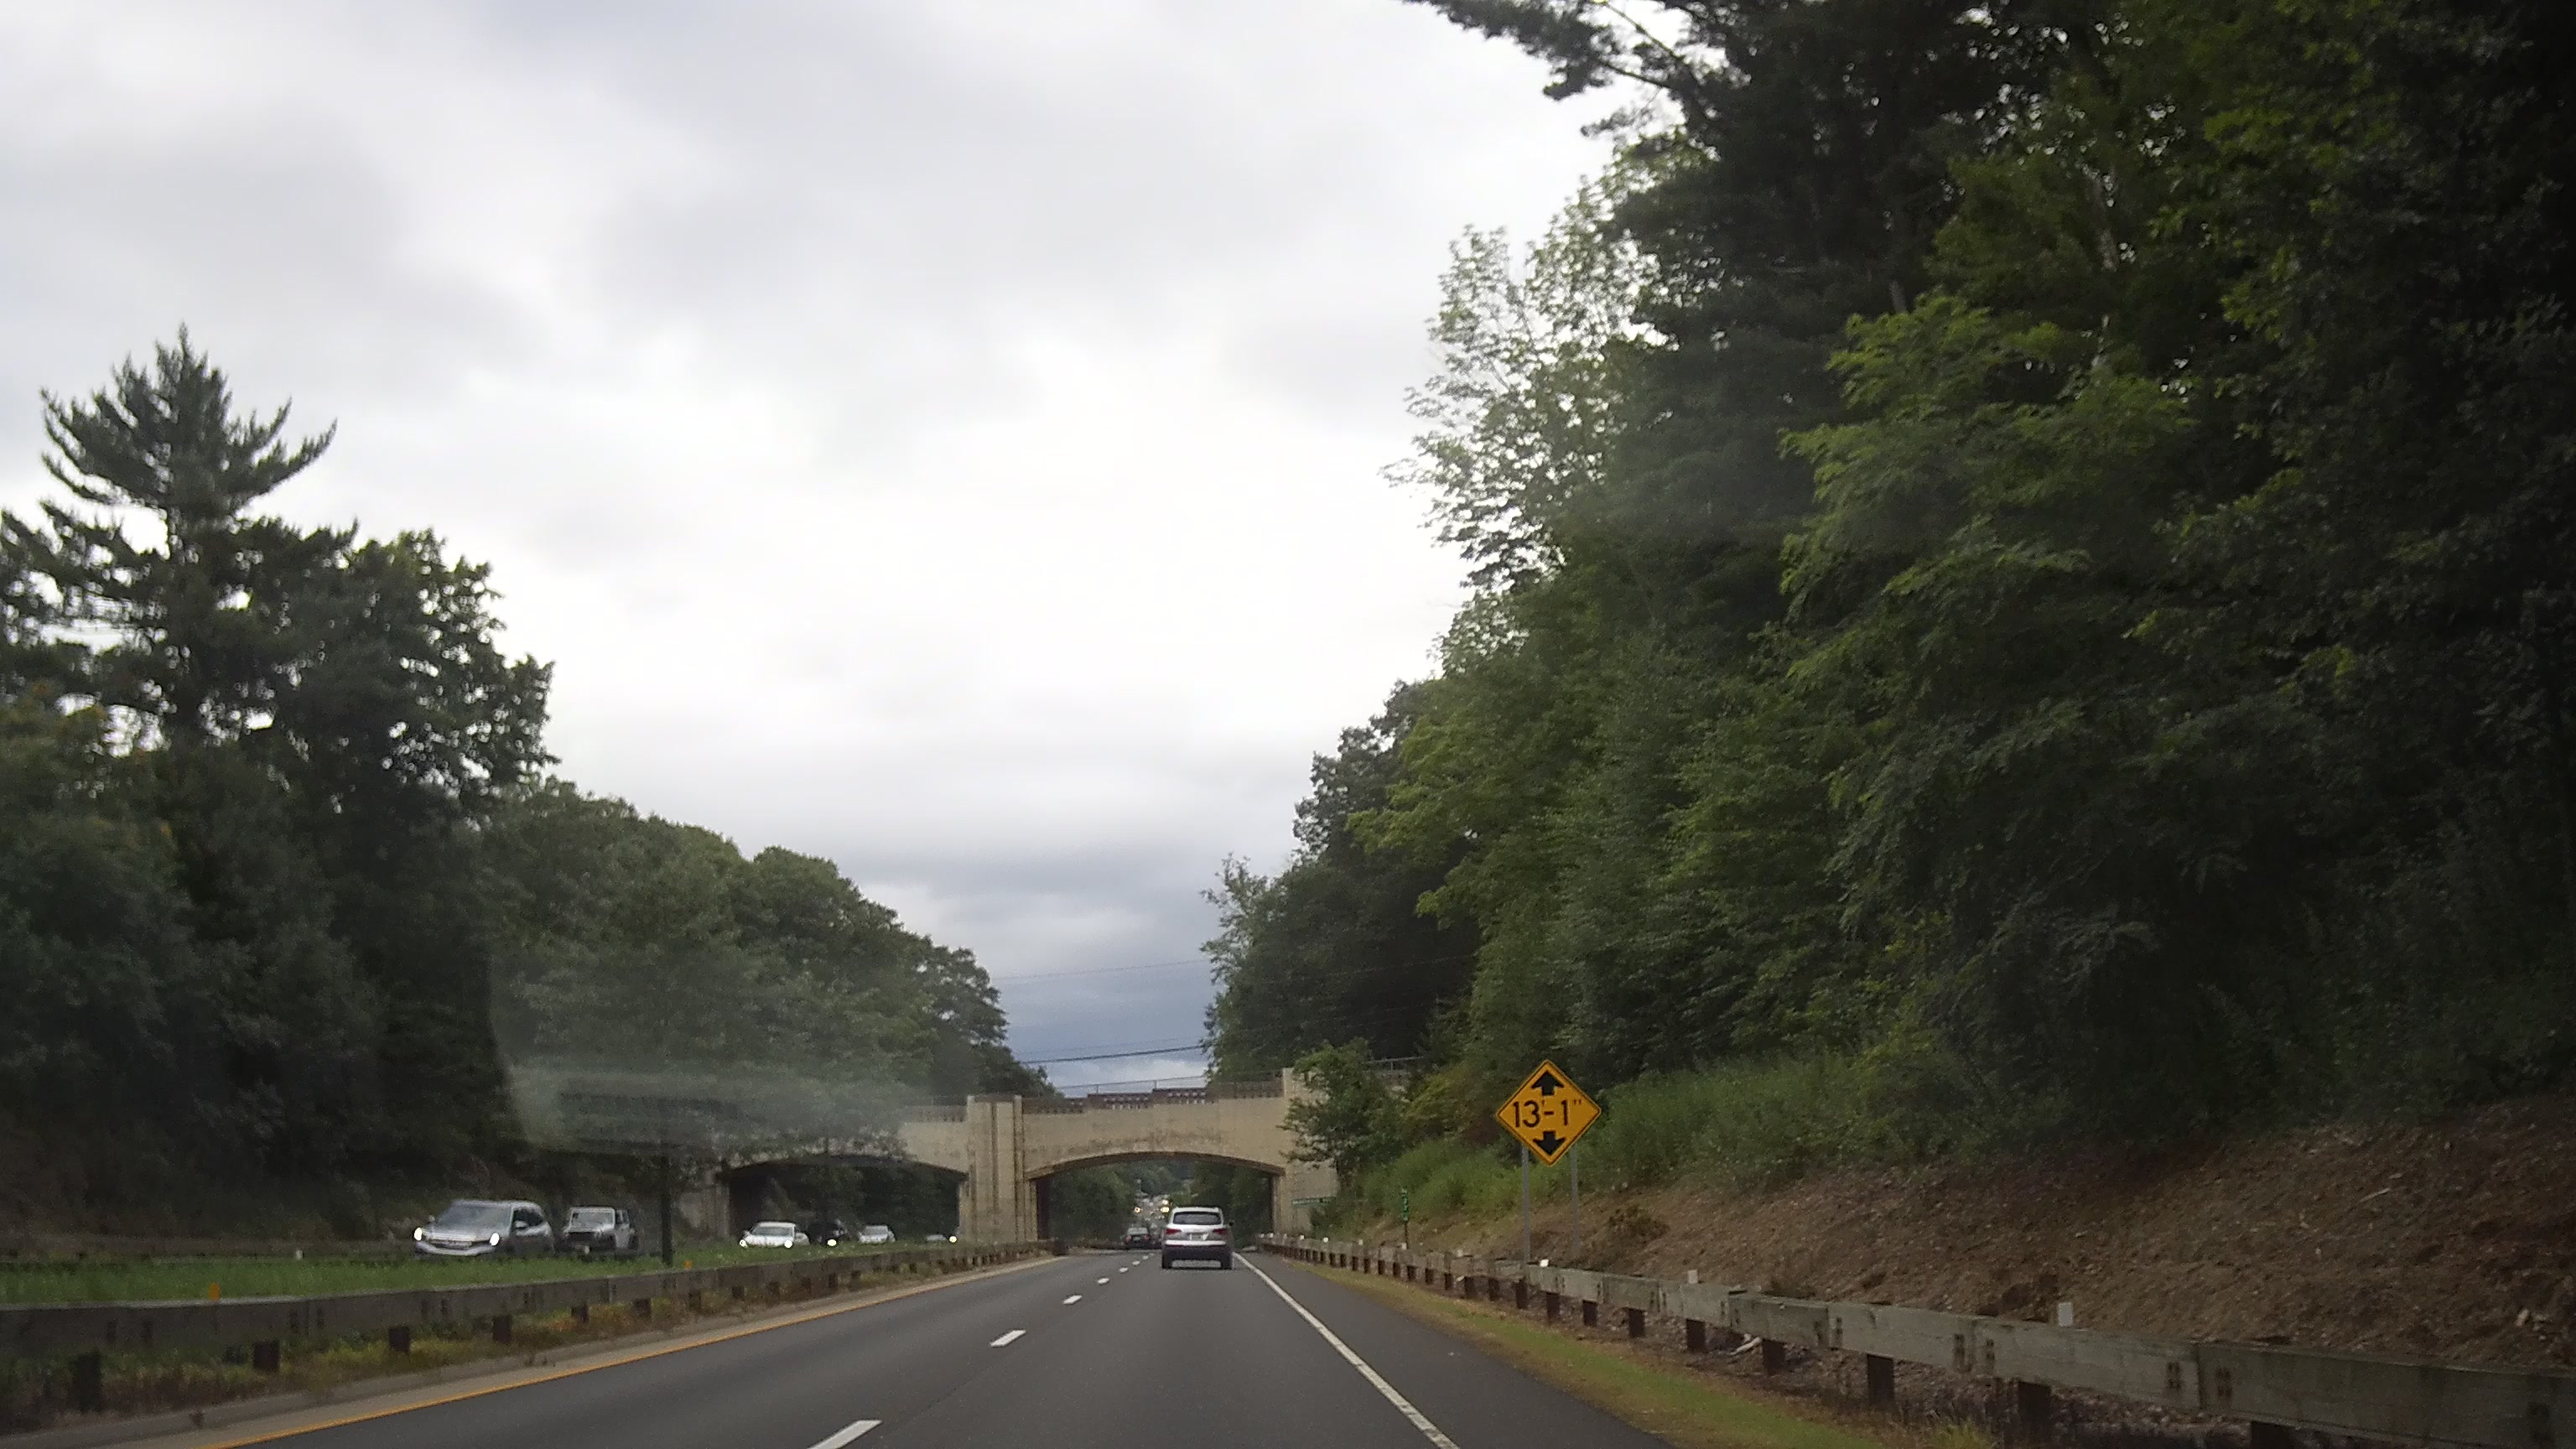low-clearance-sign: (1495, 1058, 1603, 1168)
